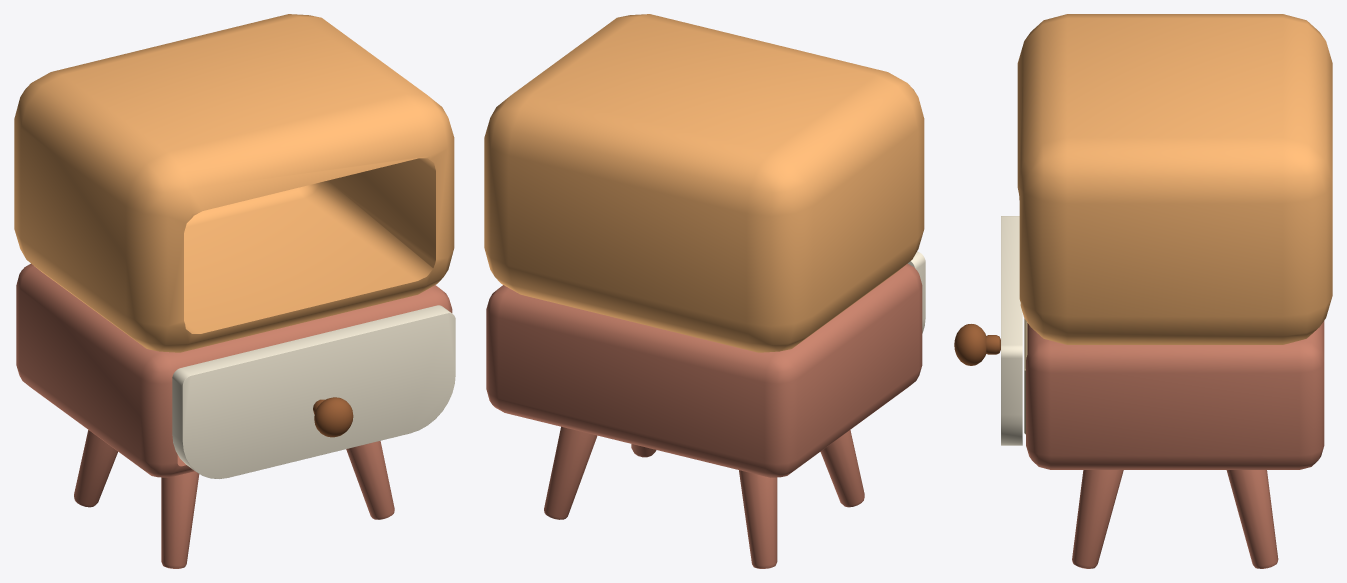
The model's file is criado_bicolor_pessego.glb.
The picture shows the model from 3 angles, left to right: view 1: azimuth 30°, elevation 25°; view 2: azimuth 150°, elevation 25°; view 3: azimuth 270°, elevation 25°; orthographic projection. The views are drawn at different scales.
Visible parts, largest first — view 1: criado_bicolor_pessego, gaveta_1; view 2: criado_bicolor_pessego; view 3: criado_bicolor_pessego, gaveta_1.
Part boxes in pixels (<box>): criado_bicolor_pessego: <box>14,14,454,568</box>; gaveta_1: <box>172,305,455,478</box>; criado_bicolor_pessego: <box>484,14,924,568</box>; criado_bicolor_pessego: <box>1017,14,1332,568</box>; gaveta_1: <box>954,216,1027,445</box>.
Size of the model in its own units: 0.46 by 0.5826 by 0.4564.
Materials: 1 (1 with a texture image).
